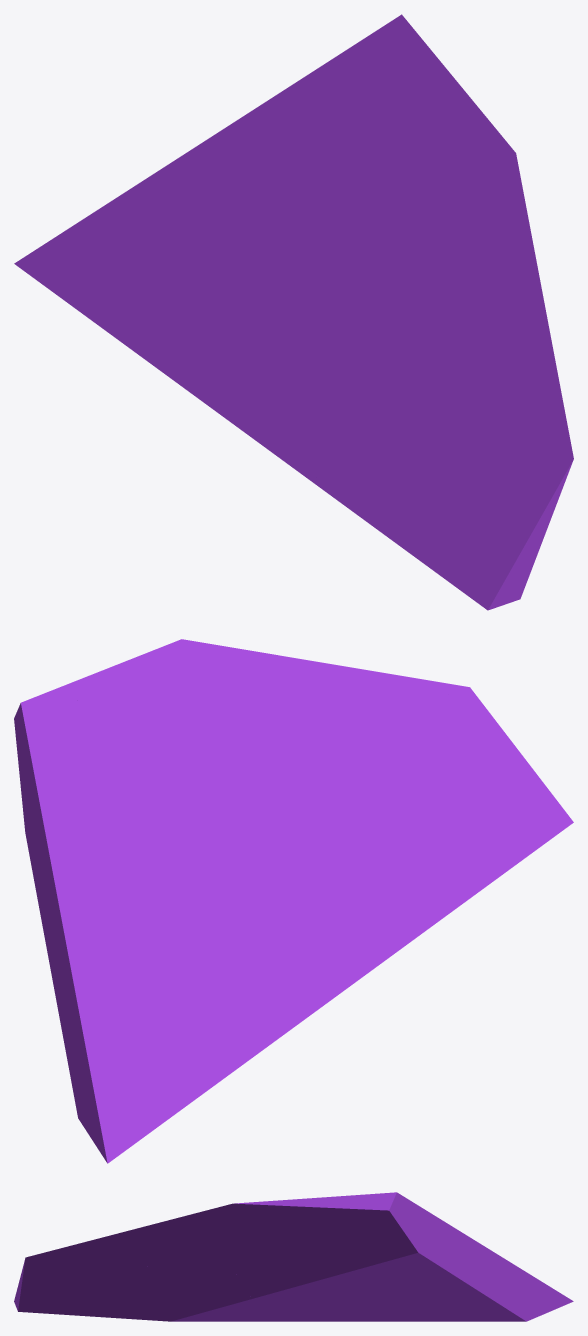
The model's file is Window_115_1_chunks.fbx.
The picture shows the model from 3 angles, top to bottom: view 1: azimuth 30°, elevation 25°; view 2: azimuth 150°, elevation 25°; view 3: azimuth 270°, elevation 25°; orthographic projection. The views are drawn at different scales.
Visible parts, largest first — view 1: Window_115_1_1, Window_115_1_11, Window_115_1_0, Window_115_1_7, Window_115_1_4, Window_115_1_5, Window_115_1_3, Window_115_1_9, Window_115_1_12, Window_115_1_2, Window_115_1_8, Window_115_1_6 (+1 smaller); view 2: Window_115_1_1, Window_115_1_11, Window_115_1_0, Window_115_1_4, Window_115_1_7, Window_115_1_5, Window_115_1_3, Window_115_1_9, Window_115_1_12, Window_115_1_2, Window_115_1_8, Window_115_1_6 (+1 smaller); view 3: Window_115_1_1, Window_115_1_4, Window_115_1_7, Window_115_1_11, Window_115_1_12, Window_115_1_2, Window_115_1_6, Window_115_1_8, Window_115_1_10, Window_115_1_9.
Boxes of the visible parts, bbox=[...] form: Window_115_1_1: bbox=[14, 100, 298, 395]; Window_115_1_11: bbox=[387, 231, 571, 447]; Window_115_1_0: bbox=[194, 273, 408, 482]; Window_115_1_7: bbox=[436, 389, 573, 610]; Window_115_1_4: bbox=[268, 14, 429, 186]; Window_115_1_5: bbox=[342, 400, 463, 572]; Window_115_1_3: bbox=[269, 168, 397, 288]; Window_115_1_9: bbox=[394, 49, 472, 247]; Window_115_1_12: bbox=[451, 101, 530, 232]; Window_115_1_2: bbox=[213, 262, 372, 382]; Window_115_1_8: bbox=[376, 338, 484, 406]; Window_115_1_6: bbox=[313, 387, 387, 503]; Window_115_1_1: bbox=[37, 861, 284, 1163]; Window_115_1_11: bbox=[228, 651, 458, 814]; Window_115_1_0: bbox=[237, 806, 401, 1033]; Window_115_1_4: bbox=[14, 687, 154, 896]; Window_115_1_7: bbox=[378, 685, 573, 859]; Window_115_1_5: bbox=[361, 774, 522, 926]; Window_115_1_3: bbox=[136, 759, 228, 924]; Window_115_1_9: bbox=[60, 663, 233, 767]; Window_115_1_12: bbox=[121, 639, 256, 728]; Window_115_1_2: bbox=[216, 816, 279, 1011]; Window_115_1_8: bbox=[307, 750, 380, 854]; Window_115_1_6: bbox=[340, 850, 430, 948]; Window_115_1_1: bbox=[367, 1230, 573, 1321]; Window_115_1_4: bbox=[305, 1192, 457, 1281]; Window_115_1_7: bbox=[14, 1255, 186, 1321]; Window_115_1_11: bbox=[33, 1217, 249, 1275]; Window_115_1_12: bbox=[179, 1199, 316, 1251]; Window_115_1_2: bbox=[278, 1253, 373, 1321]; Window_115_1_6: bbox=[174, 1293, 318, 1321]; Window_115_1_8: bbox=[135, 1265, 289, 1300]; Window_115_1_10: bbox=[246, 1230, 327, 1278]; Window_115_1_9: bbox=[295, 1195, 356, 1233].
Bounding box in the file's own units: 363 × 415 × 1185.
